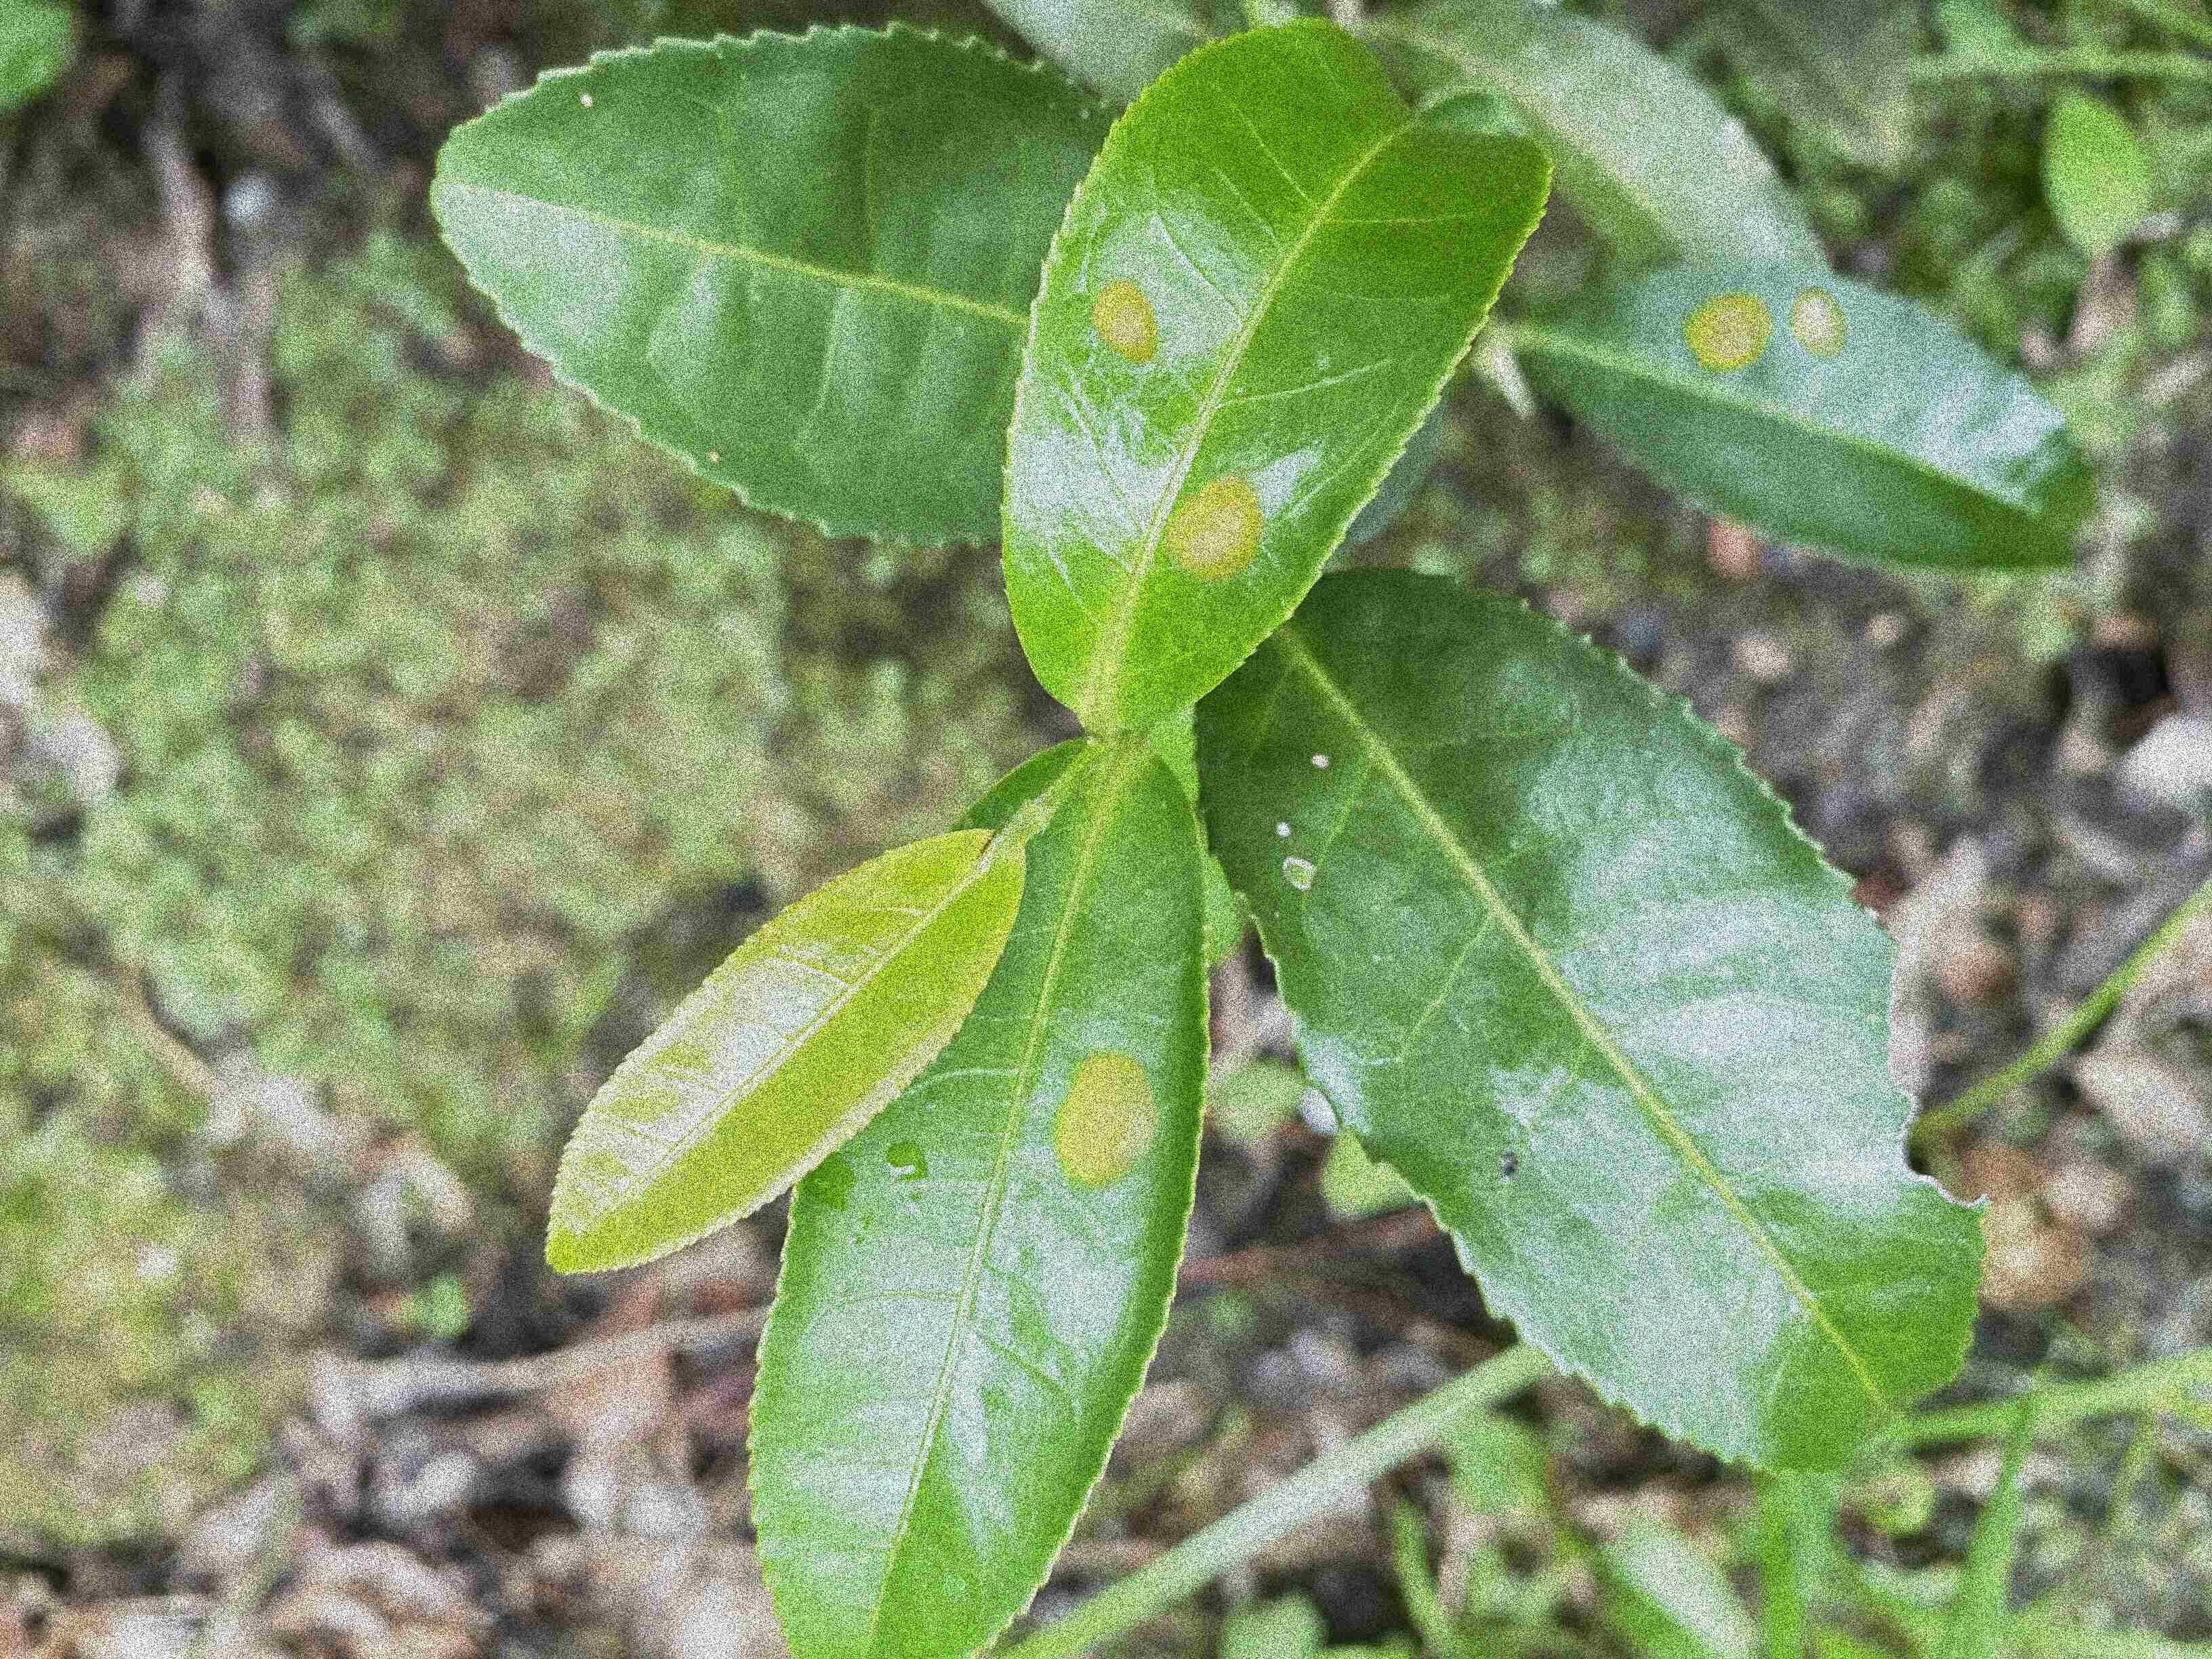chabing_high: (1008, 17, 1557, 728), (1519, 267, 2094, 579)
chabing_low: (752, 739, 1211, 1652)
chihuo_high: (1216, 561, 1994, 1483)
healthy: (434, 12, 1082, 551), (538, 828, 1026, 1276)
